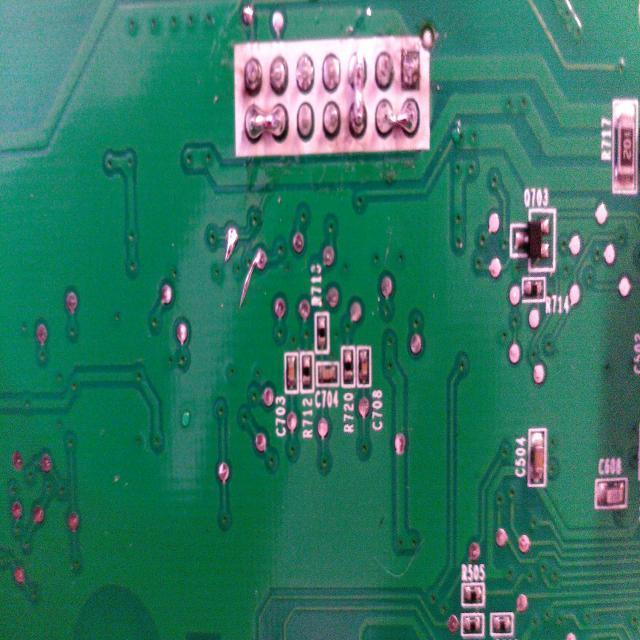Soldering shorted: (238, 102, 293, 144), (348, 48, 371, 140), (376, 94, 419, 136)
